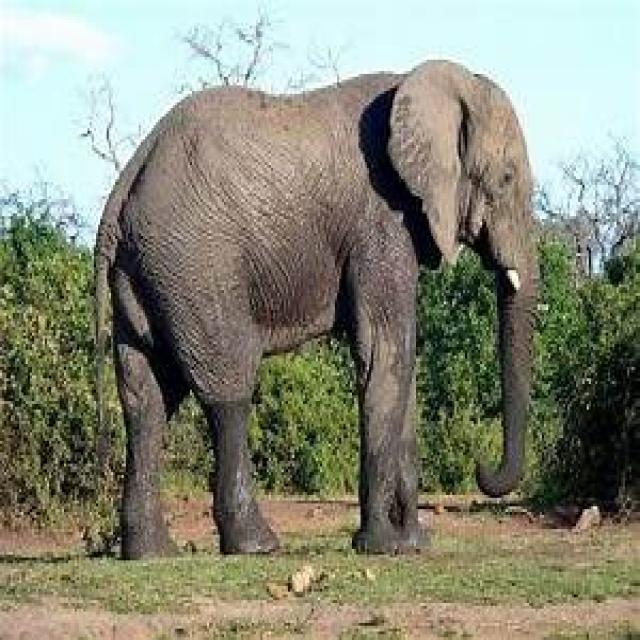elephant: (90, 60, 542, 560)
